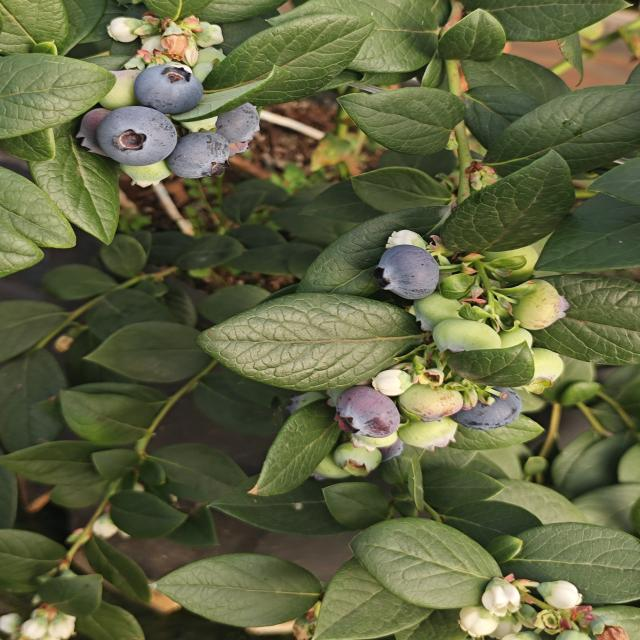ripe: (82, 104, 186, 170), (369, 237, 443, 302), (442, 378, 523, 436), (130, 56, 206, 116), (166, 127, 238, 186), (208, 88, 266, 148)
